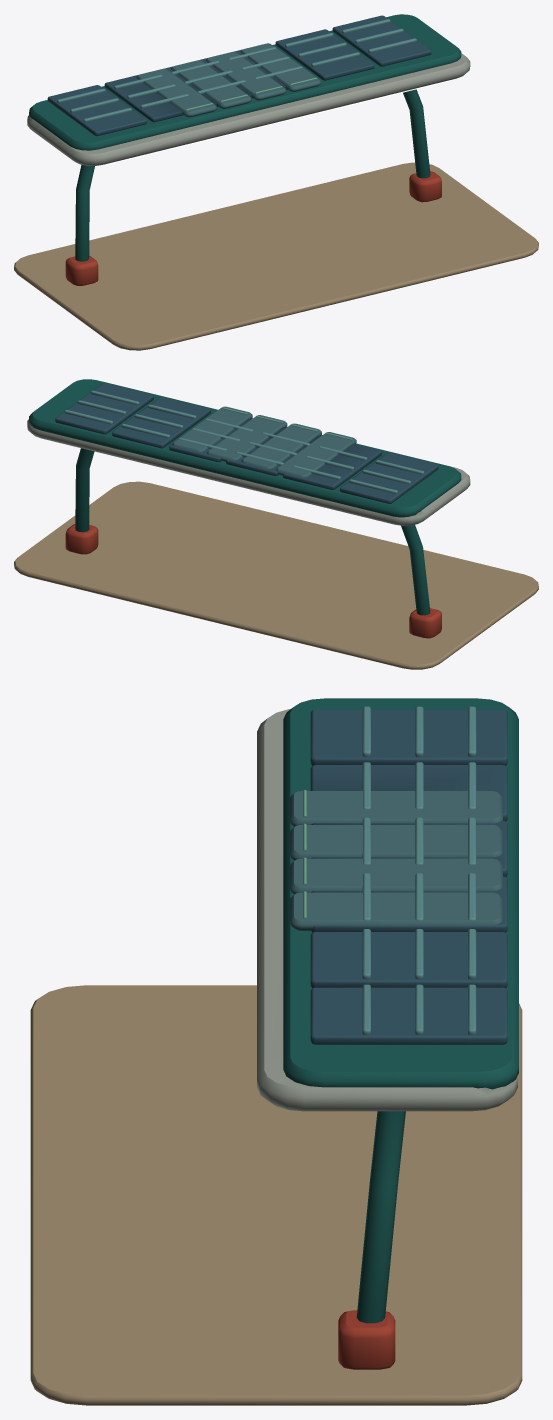
File: charge.glb
3 renders of one model, top to bottom at view 1: azimuth 30°, elevation 25°; view 2: azimuth 150°, elevation 25°; view 3: azimuth 270°, elevation 25°, orthographic. The views are drawn at different scales.
Visible parts, largest first — view 1: Charge; view 2: Charge; view 3: Charge.
Part boxes in pixels (x1,y1,x2,y2): Charge: (14, 14, 538, 350); Charge: (14, 379, 538, 669); Charge: (30, 698, 522, 1405).
Bounding box in the file's own units: 8.54 × 3.18 × 4.3.
